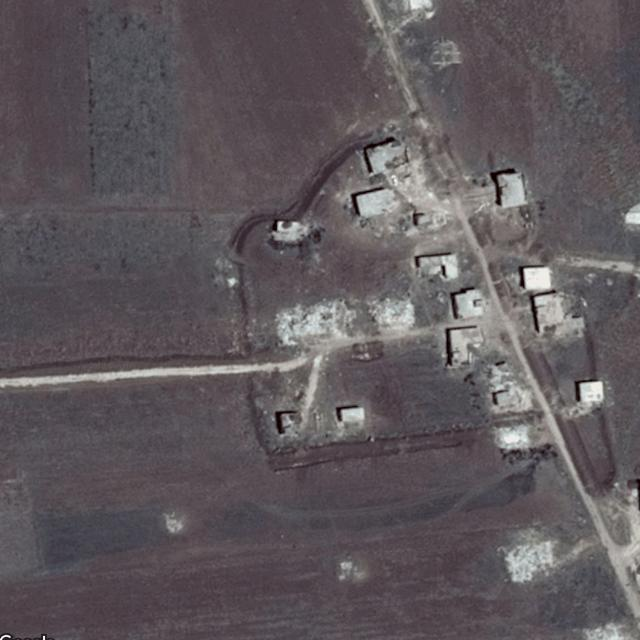damaged_building: (271, 298, 356, 348), (484, 358, 533, 412), (495, 538, 553, 582), (363, 295, 417, 333), (578, 619, 631, 640), (490, 422, 532, 447)
